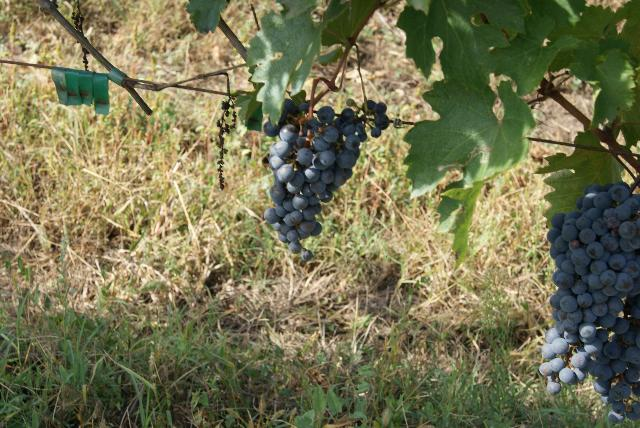grapes: (540, 181, 640, 384), (264, 99, 361, 261), (346, 99, 390, 141), (348, 100, 356, 106)
